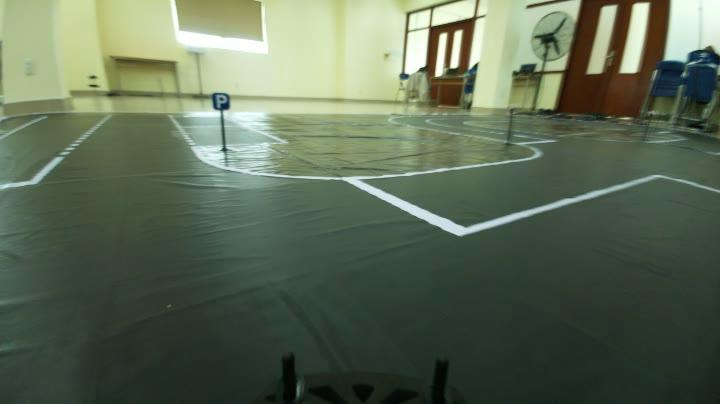parking: (205, 88, 234, 111)
